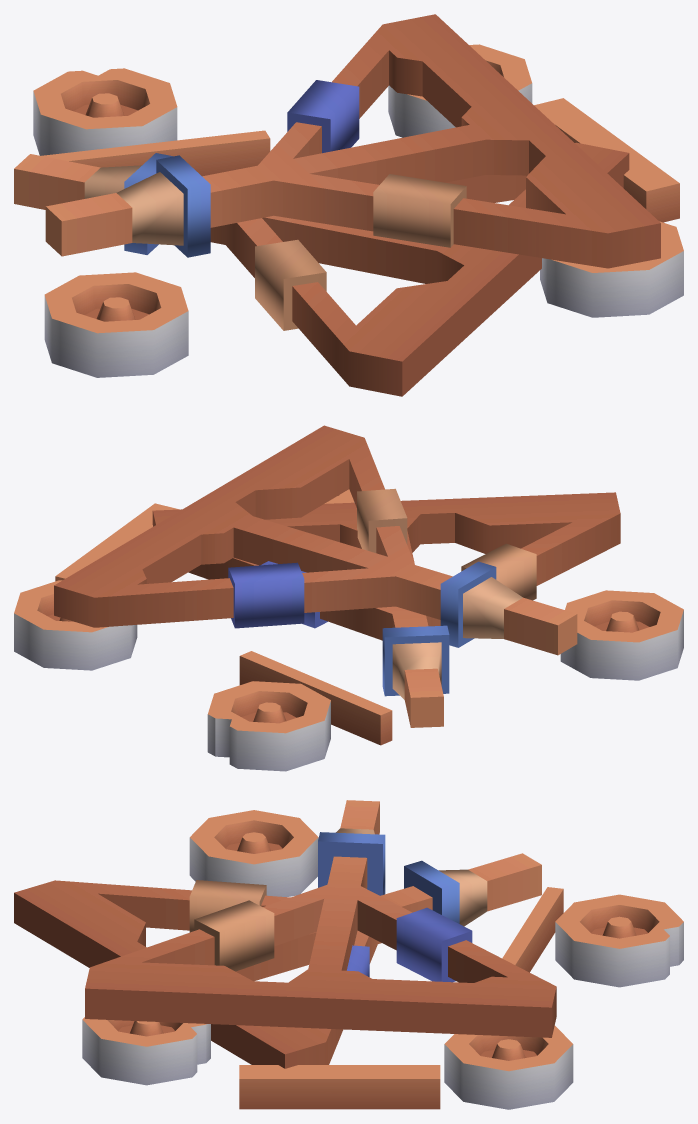
File: siege-trebuchet-demolished.glb
3 renders of one model, top to bottom at view 1: azimuth 30°, elevation 25°; view 2: azimuth 150°, elevation 25°; view 3: azimuth 270°, elevation 25°, orthographic. The views are drawn at different scales.
Parts seen in each view (by area): view 1: siege-trebuchet-demolished; view 2: siege-trebuchet-demolished; view 3: siege-trebuchet-demolished.
Part boxes in pixels (x1=…): siege-trebuchet-demolished: x1=14, y1=14, x2=683, y2=396; siege-trebuchet-demolished: x1=14, y1=425, x2=683, y2=771; siege-trebuchet-demolished: x1=14, y1=800, x2=683, y2=1109.
Bounding box in the file's own units: 1.93 × 0.3097 × 2.1.
1 material, 1 textured.
